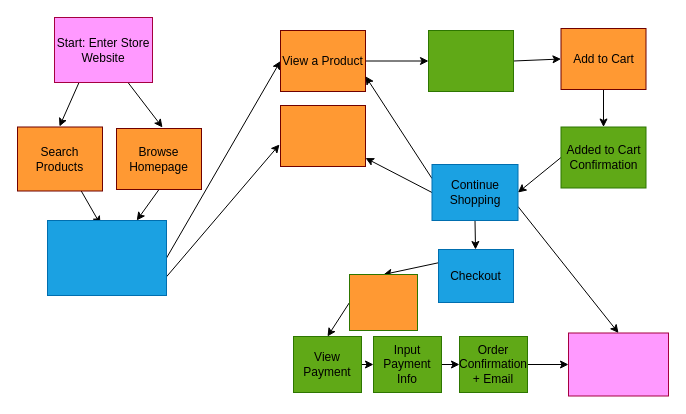
This 686x414 diagram has some shape labels left out. Each missing label, with the box of its shape:
Don't View Product: (280, 104, 366, 166)
End: Exit Store Website: (568, 332, 668, 396)
Look over products: (46, 220, 166, 296)
Product's Webpage Opens: (428, 30, 514, 92)
View Cart: (348, 274, 418, 330)
